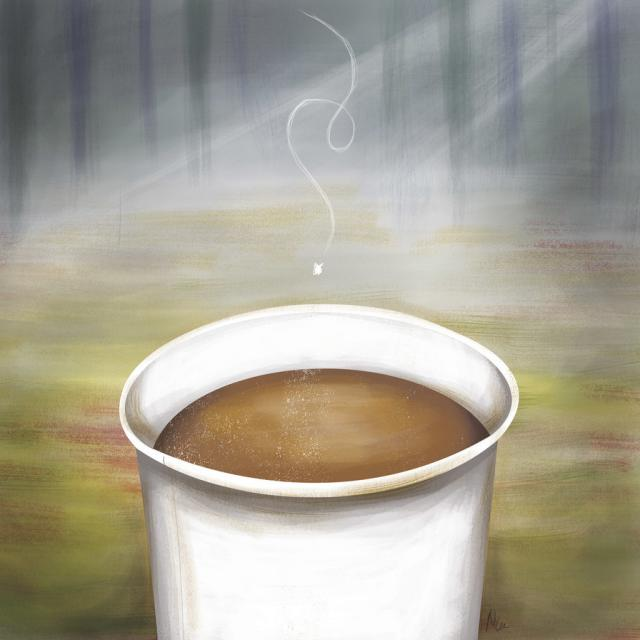Coffee: (105, 290, 530, 632)
Tea: (153, 365, 491, 483)
